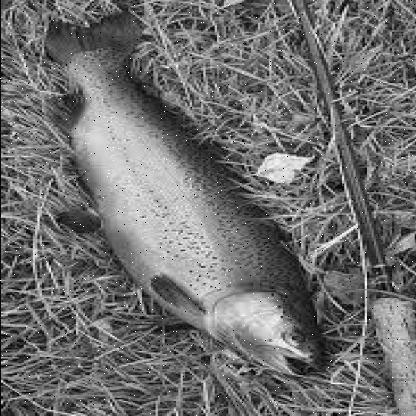fish: (40, 13, 332, 371)
